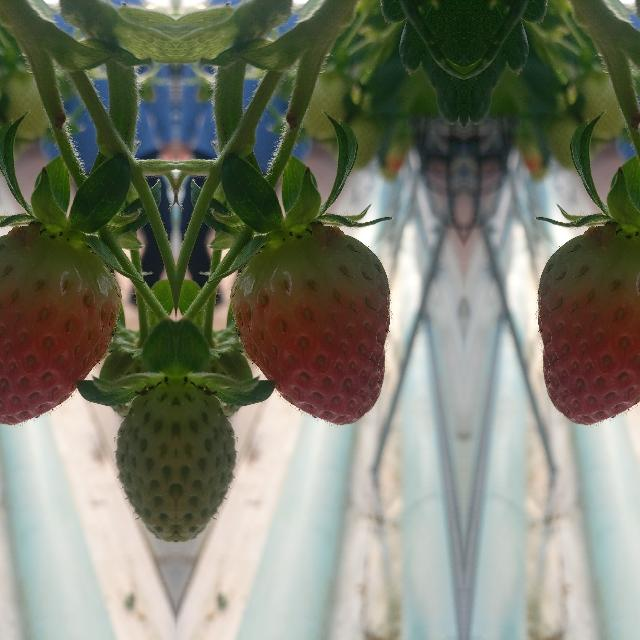Health_25: (174, 374, 230, 540), (120, 374, 176, 540)
Health_75: (230, 234, 388, 424), (0, 234, 120, 424), (537, 234, 640, 424)
